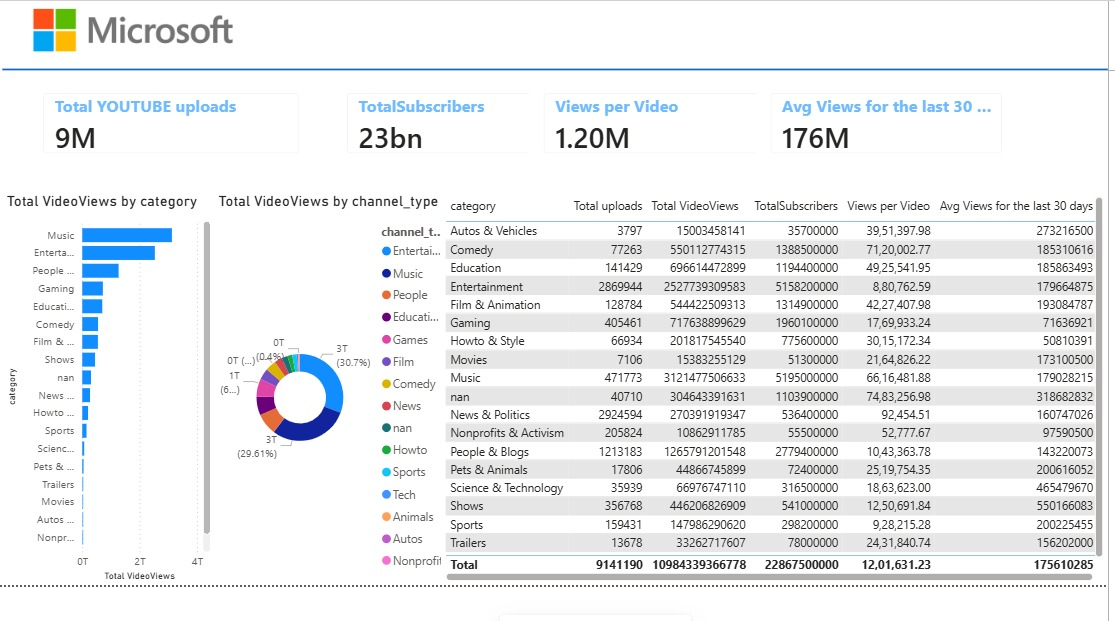

The page's visual inventory and layout, read from the dashboard file:
{"tool":"powerbi","page":{"name":"Dashboard for 3 visuals","canvas":[1280,720],"ordinal":3},"visuals":[{"type":"actionButton","title":"Back","box":[1177.2,678.7,100.7,40.7],"z":0},{"type":"shape","box":[14.1,0,1265.6,259.8],"z":1000},{"type":"image","box":[14.1,21.2,298.7,129],"z":2000},{"type":"cardVisual","fields":{"Data":["Key measures.Total uploads"]},"box":[44.8,139.5,327.2,103.3],"z":3000},{"type":"cardVisual","fields":{"Data":["Key measures.TotalSubscribers"]},"box":[392.7,139.5,387.5,103.3],"z":4000},{"type":"cardVisual","fields":{"Data":["Key measures.Views per Video"]},"box":[616.6,139.5,327.2,103.3],"z":5000},{"type":"clusteredBarChart","fields":{"Category":["Global YouTube Statistics.category"],"Y":["Key measures.Total VideoViews"]},"box":[13.8,270.4,242.9,449.5],"z":6000},{"type":"donutChart","fields":{"Category":["Global YouTube Statistics.channel_type"],"Y":["Key measures.Total VideoViews"]},"box":[256.6,270.4,277.3,449.5],"z":6001},{"type":"tableEx","fields":{"Values":["Global YouTube Statistics.category","Key measures.Total uploads","Key measures.Total VideoViews","Key measures.TotalSubscribers","Key measures.Views per Video","Key measures.Avg Views for the last 30 days"]},"box":[516.7,270.4,763,449.5],"z":6002},{"type":"cardVisual","fields":{"Data":["Key measures.Avg Views for the last 30 days"]},"box":[876.7,139.5,299.7,103.3],"z":6003}]}

Visuals, with their boxes in screenshot pixels (x1, y1, x2, y2), scaled from the page's 1280x720 canvas onto the 1115x621 screenshot:
"Back" actionButton: (1025, 585, 1113, 620)
shape: (12, 0, 1114, 224)
image: (12, 18, 272, 130)
cardVisual - Key measures.Total uploads: (39, 120, 324, 209)
cardVisual - Key measures.TotalSubscribers: (342, 120, 680, 209)
cardVisual - Key measures.Views per Video: (537, 120, 822, 209)
clusteredBarChart - Global YouTube Statistics.category x Key measures.Total VideoViews: (12, 233, 224, 620)
donutChart - Global YouTube Statistics.channel_type x Key measures.Total VideoViews: (224, 233, 465, 620)
tableEx - Global YouTube Statistics.category x Key measures.Total uploads: (450, 233, 1114, 620)
cardVisual - Key measures.Avg Views for the last 30 days: (764, 120, 1025, 209)
